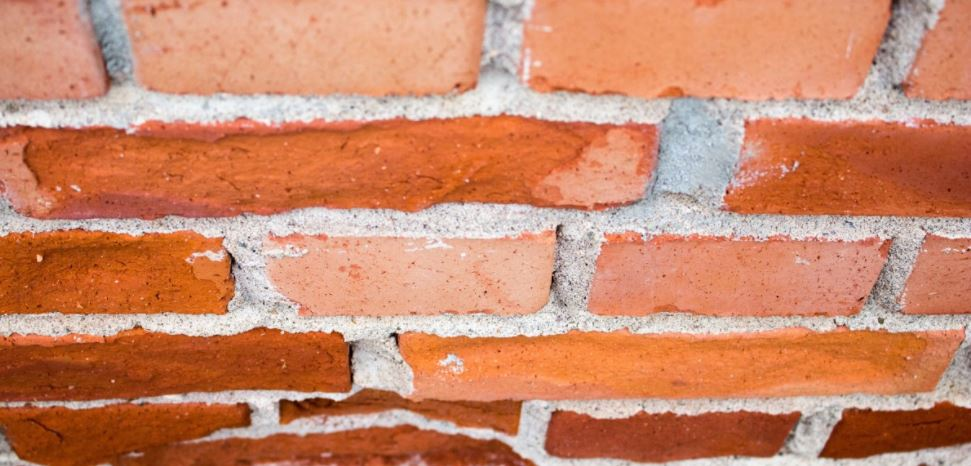brick: (3, 119, 656, 212), (531, 1, 869, 103), (125, 1, 482, 93), (402, 336, 945, 394), (1, 334, 350, 402), (738, 117, 971, 216), (267, 235, 550, 313), (605, 234, 874, 313), (1, 232, 231, 313), (558, 409, 804, 460), (841, 405, 971, 444)
